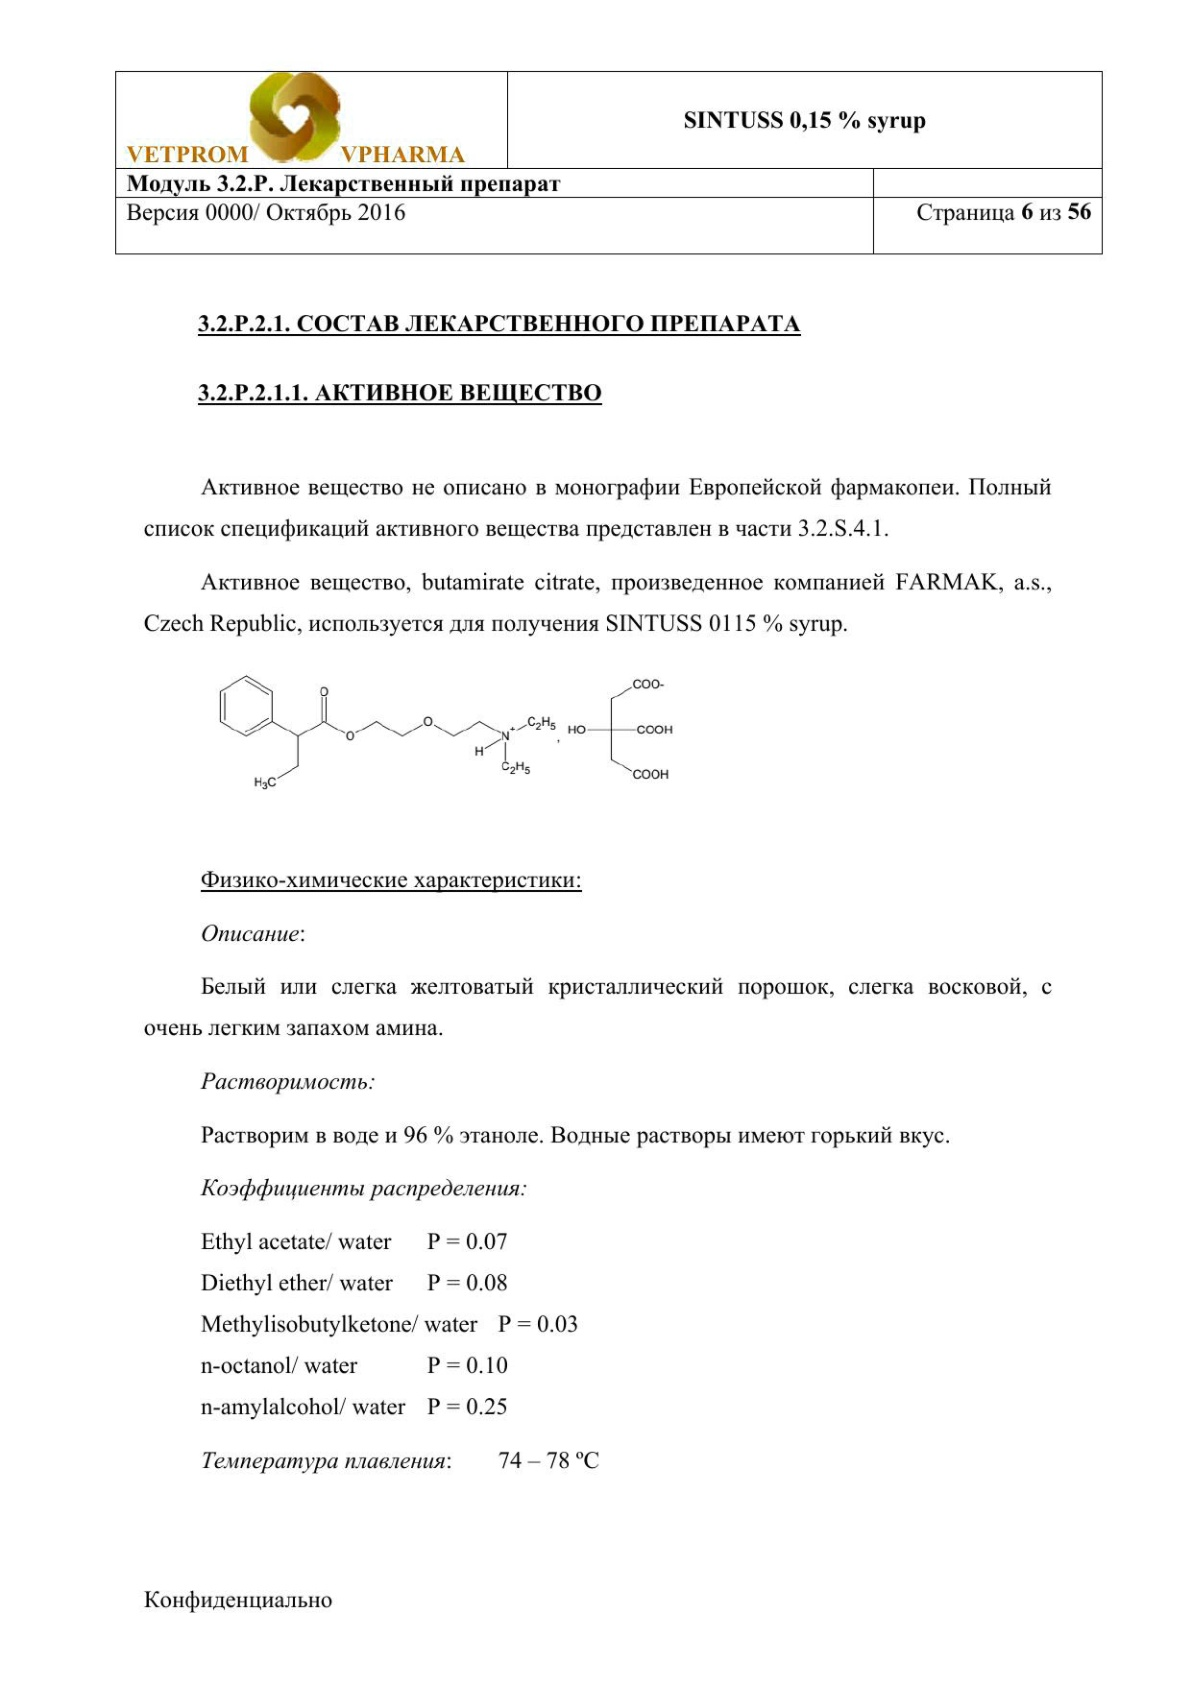merged_cells: (114, 68, 1106, 255)
